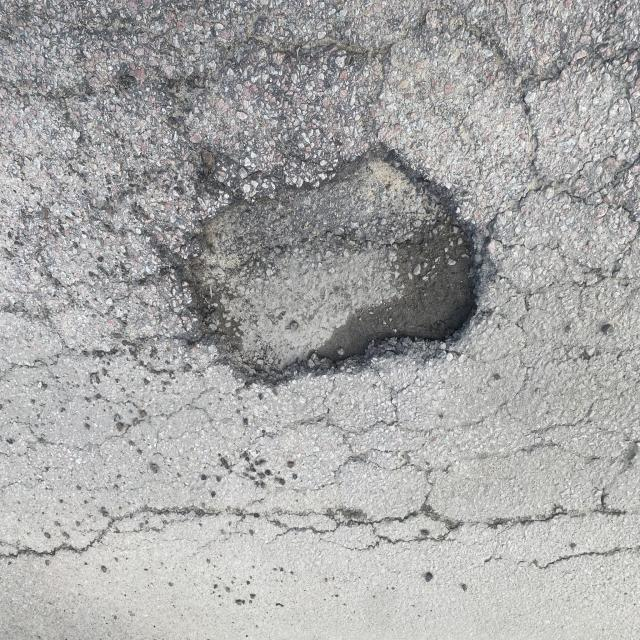pothole: (130, 108, 515, 456)
